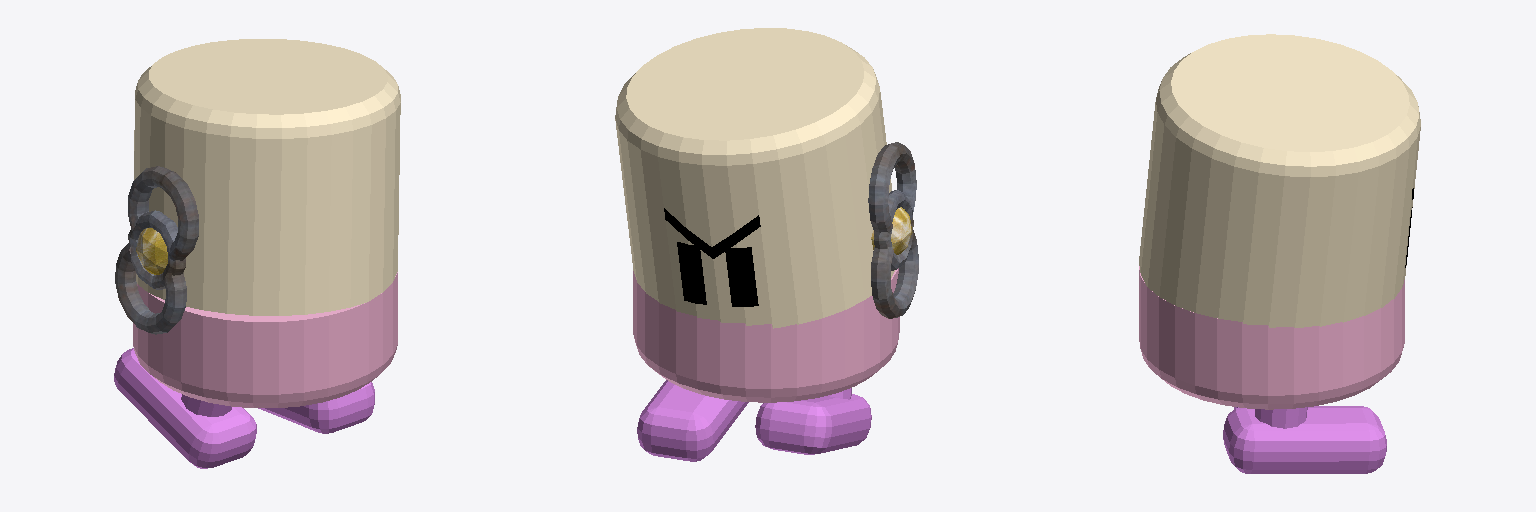
3 views of the same model, side by side, from view 1: azimuth 30°, elevation 25°; view 2: azimuth 150°, elevation 25°; view 3: azimuth 270°, elevation 25° (orthographic).
Parts seen in each view (by area): view 1: Head, Jaw, WindupKey, LeftLeg, RightLeg; view 2: Head, Jaw, WindupKey, LeftLeg, RightLeg; view 3: Head, Jaw, RightLeg.
Part boxes in pixels (bbox=[...]): Head: bbox=[134, 39, 400, 315]; Jaw: bbox=[133, 272, 397, 407]; WindupKey: bbox=[115, 166, 198, 334]; LeftLeg: bbox=[114, 348, 256, 468]; RightLeg: bbox=[258, 382, 374, 433]; Head: bbox=[615, 28, 894, 328]; Jaw: bbox=[633, 268, 899, 402]; WindupKey: bbox=[868, 142, 918, 318]; LeftLeg: bbox=[755, 388, 871, 454]; RightLeg: bbox=[637, 380, 748, 461]; Head: bbox=[1139, 34, 1420, 327]; Jaw: bbox=[1139, 266, 1404, 409]; RightLeg: bbox=[1223, 406, 1386, 473].
Bounding box in the file's own units: 114 × 152 × 106.
Materials: 6 (2 with a texture image).